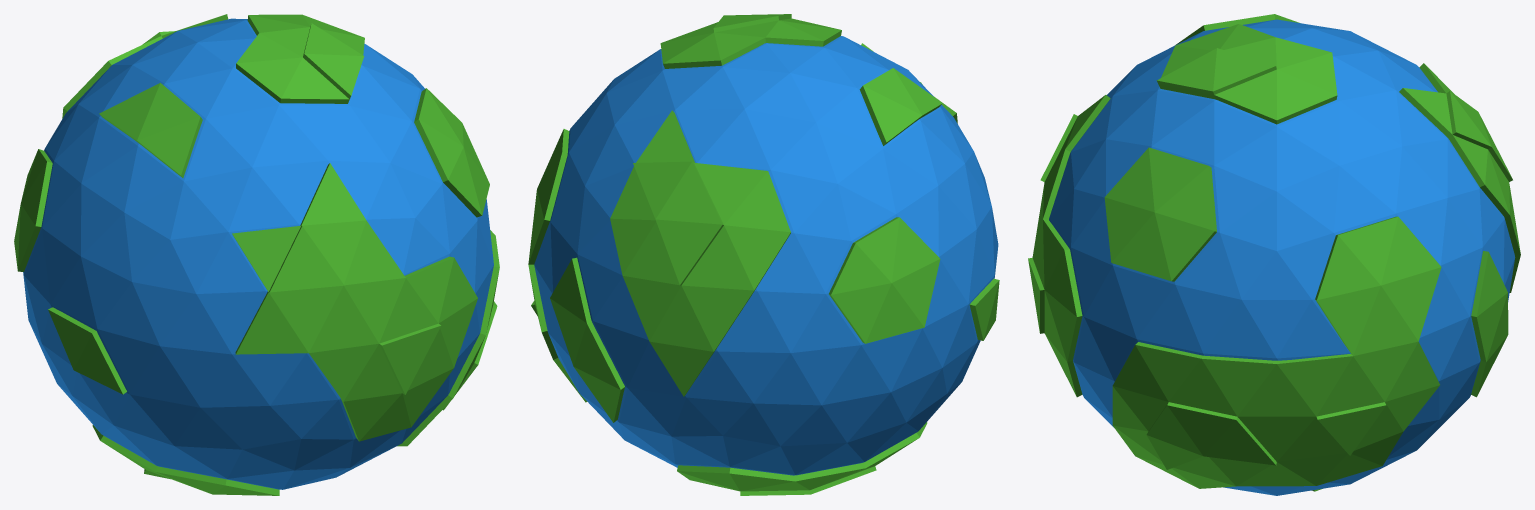
File: PlanetExample.fbx
3 views of the same model, side by side, from view 1: azimuth 30°, elevation 25°; view 2: azimuth 150°, elevation 25°; view 3: azimuth 270°, elevation 25° (orthographic). The views are drawn at different scales.
Visible parts, largest first — view 1: Waterpart, Landpart; view 2: Waterpart, Landpart; view 3: Waterpart, Landpart.
Boxes of the visible parts, <box> form: Waterpart: <box>23,18,493,489</box>; Landpart: <box>14,14,499,495</box>; Waterpart: <box>534,36,998,475</box>; Landpart: <box>528,14,999,495</box>; Waterpart: <box>1049,19,1515,495</box>; Landpart: <box>1028,14,1520,491</box>.
Size of the model in its own units: 450 by 451 by 455.
